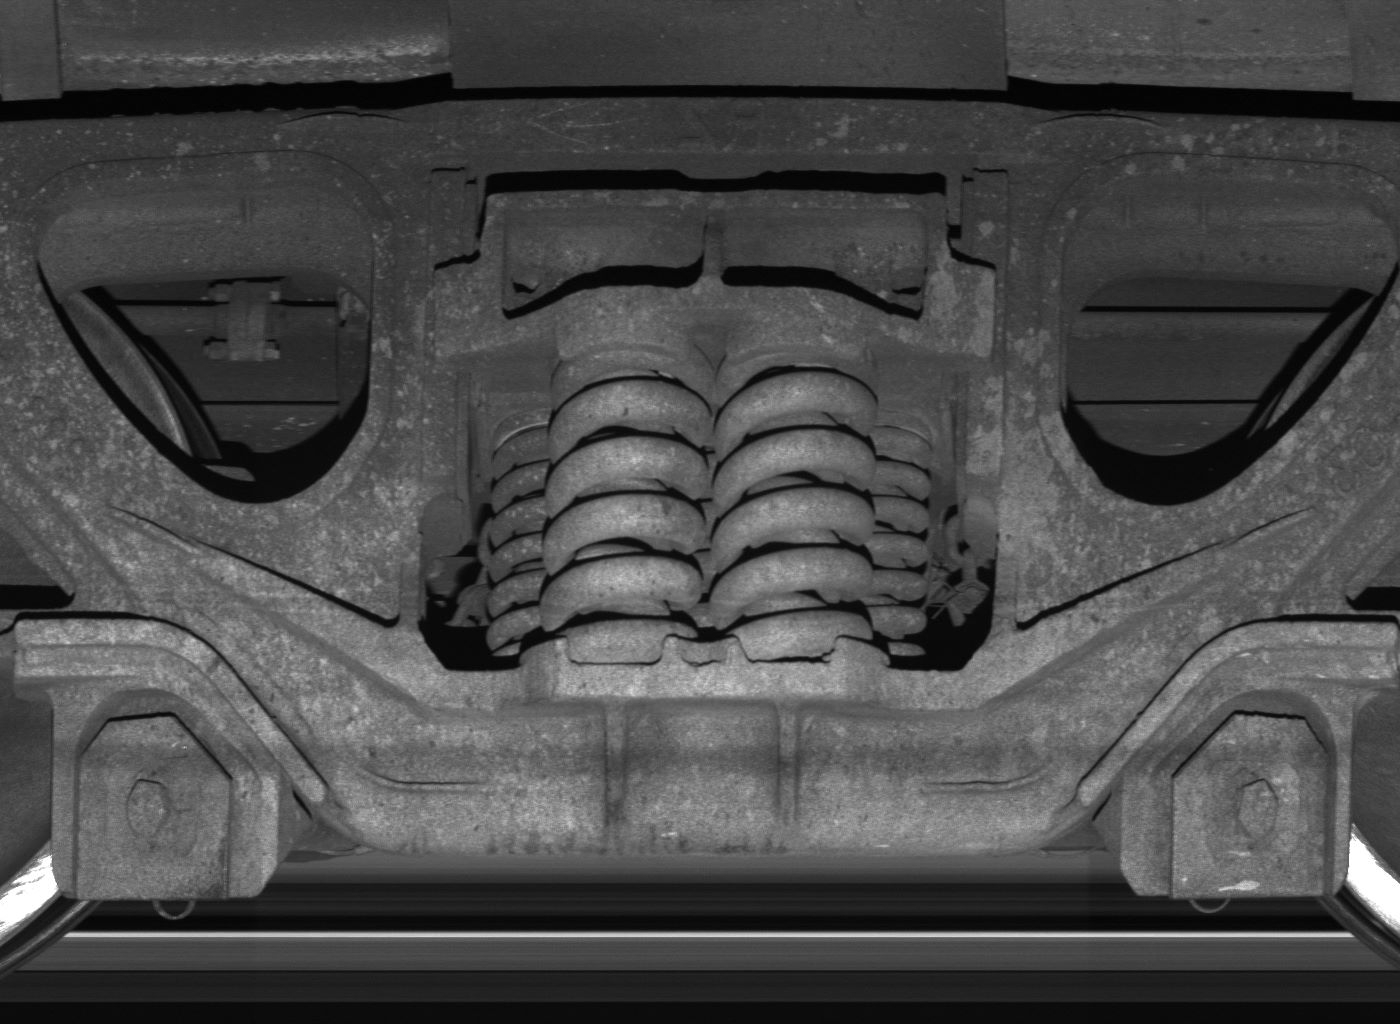normal: (1116, 689, 1351, 900), (52, 685, 274, 903)
